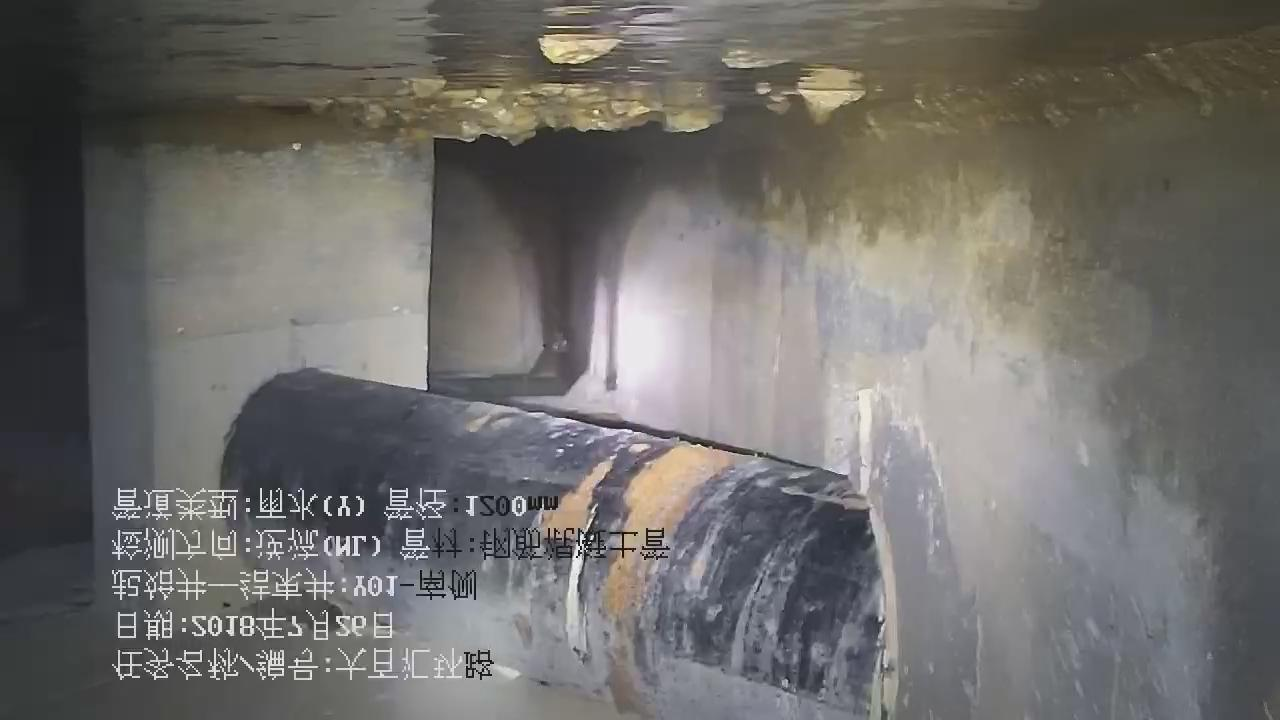YWCR: (213, 356, 901, 718)
